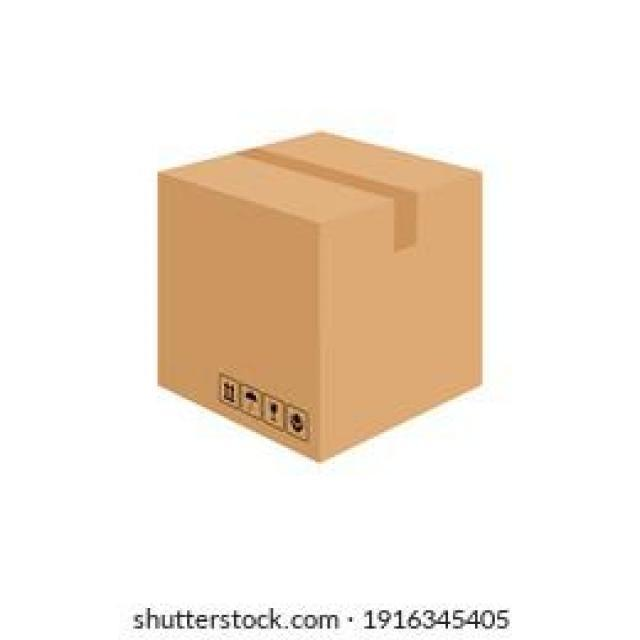box: (148, 109, 494, 473)
